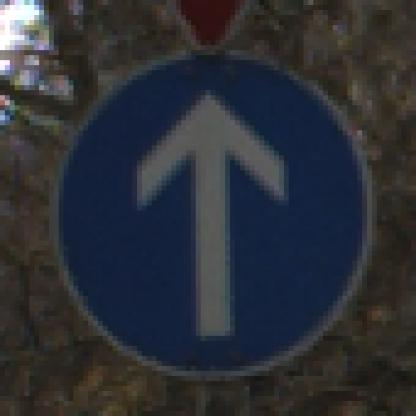AheadOnly: (35, 41, 383, 382)
